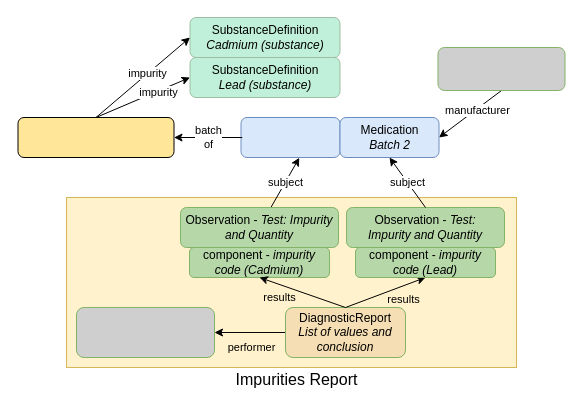
This 582x415 diagram has some shape labels left out. The shapes that lost their labels are listed below. From the top down, each one's centre as x and y in pixels, then its label:
[501,68]: Organization AAA Pharmaceutical, Inc.
[95,137]: MedicinalProductDefintion Stelbat Tablets, 20mg
[290,137]: Medication Batch 1
[145,332]: Organization Advanced Analytical Testing Labs Inc.
